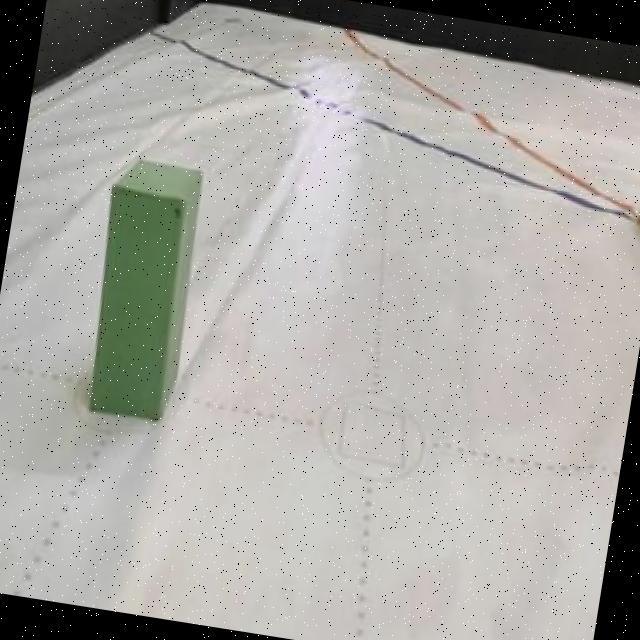greenbox: (77, 152, 210, 422)
